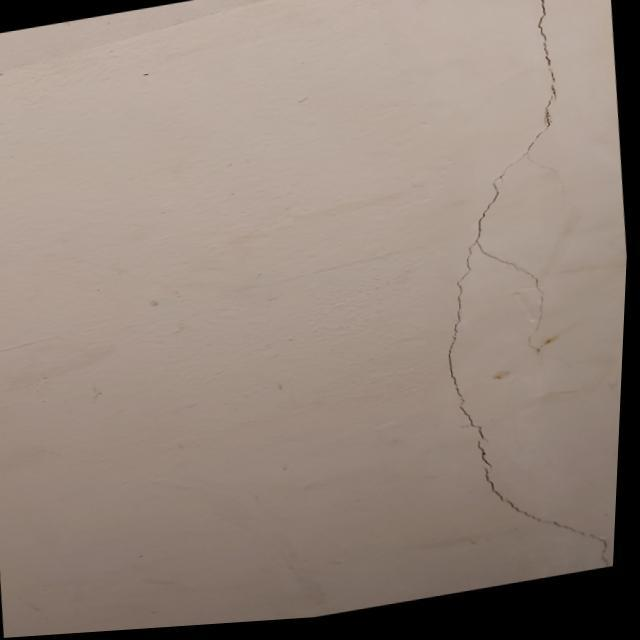Crack: (439, 5, 556, 531)
